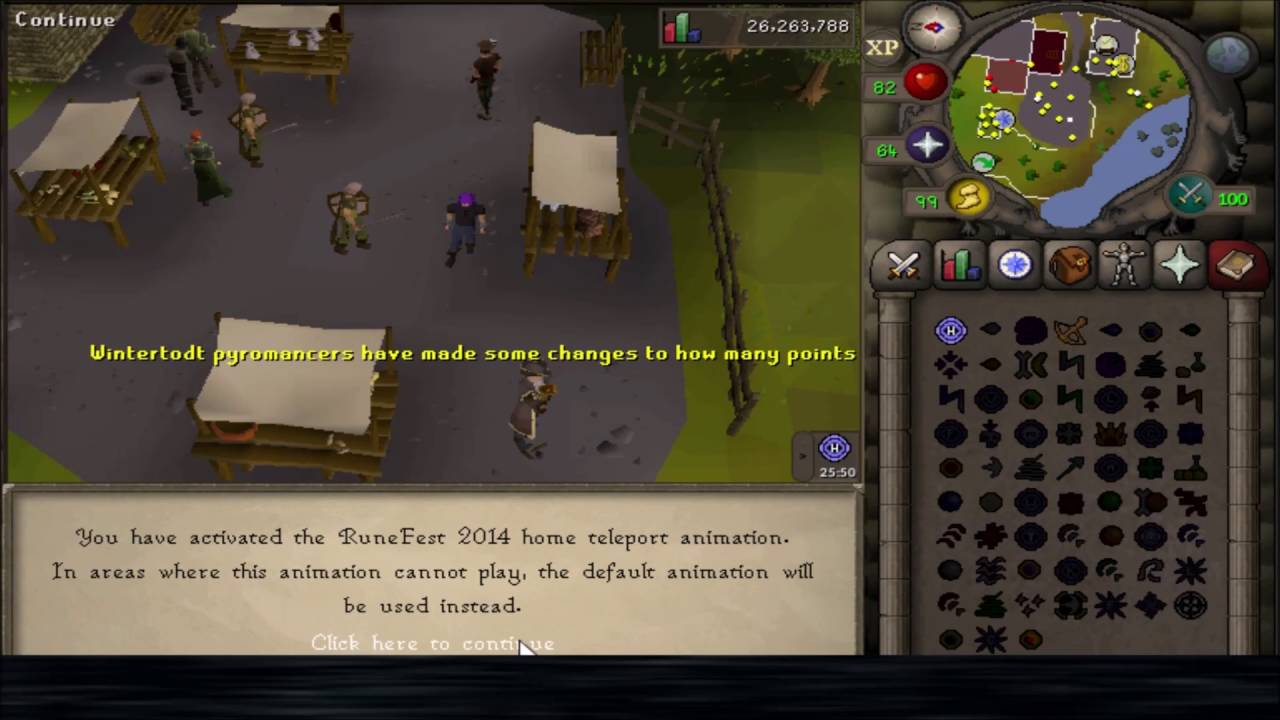rs_player: (507, 362, 561, 466), (227, 89, 274, 169), (184, 133, 234, 208), (440, 190, 487, 267), (331, 176, 378, 252), (468, 39, 498, 116)
